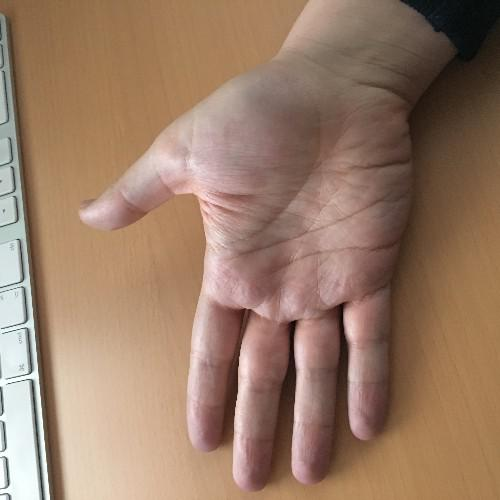paper: (73, 54, 420, 495)
